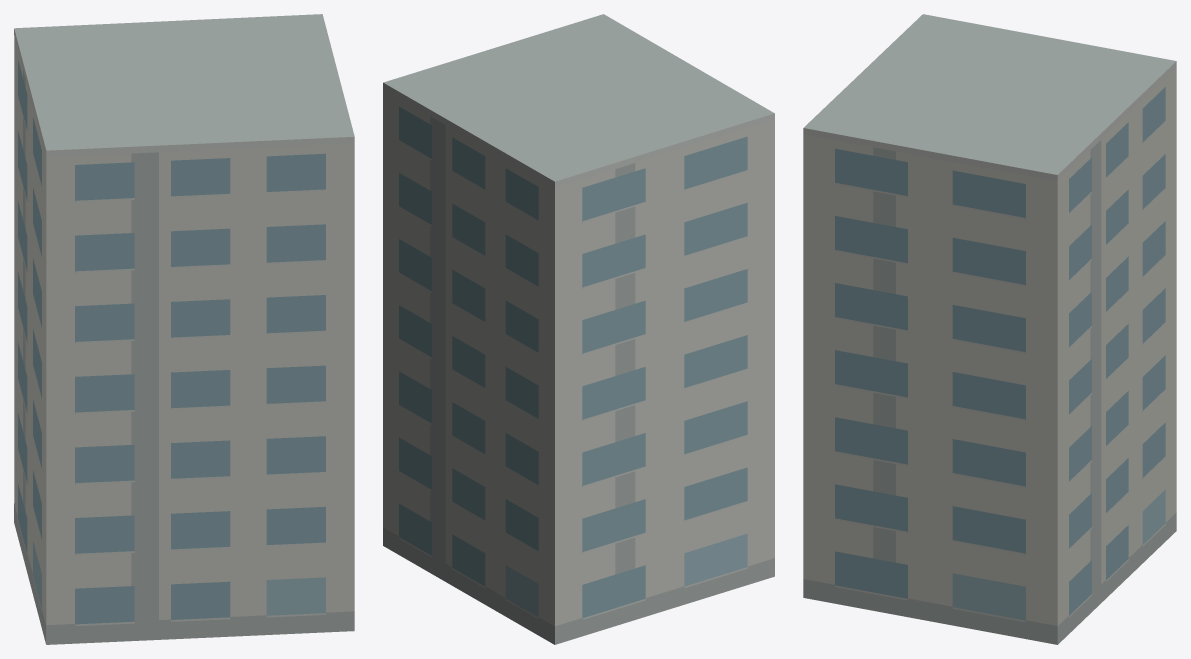
File: survey-upis-32965938.glb
The picture shows the model from 3 angles, left to right: view 1: azimuth 30°, elevation 25°; view 2: azimuth 150°, elevation 25°; view 3: azimuth 270°, elevation 25°; orthographic projection. The views are drawn at different scales.
Visible parts, largest first — view 1: survey-upis-32965938.tmp; view 2: survey-upis-32965938.tmp; view 3: survey-upis-32965938.tmp.
Boxes of the visible parts, box(x1,y1,x2,y2) form: survey-upis-32965938.tmp: box(14, 14, 354, 644); survey-upis-32965938.tmp: box(383, 14, 774, 644); survey-upis-32965938.tmp: box(803, 14, 1176, 644).
Bounding box in the file's own units: 13.17 × 17.9 × 12.9.
